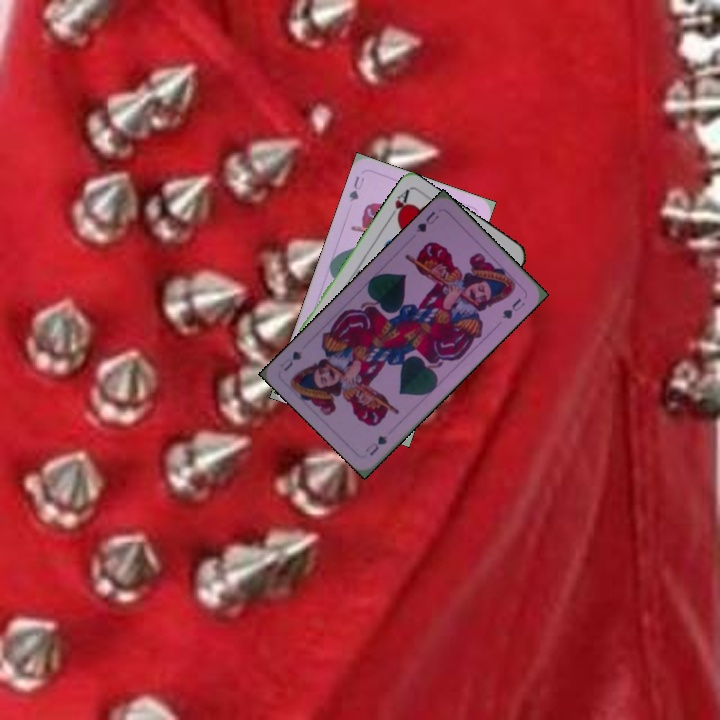GU: (413, 207, 442, 235), (361, 432, 391, 458), (345, 172, 367, 204)
HA: (384, 186, 412, 223)
